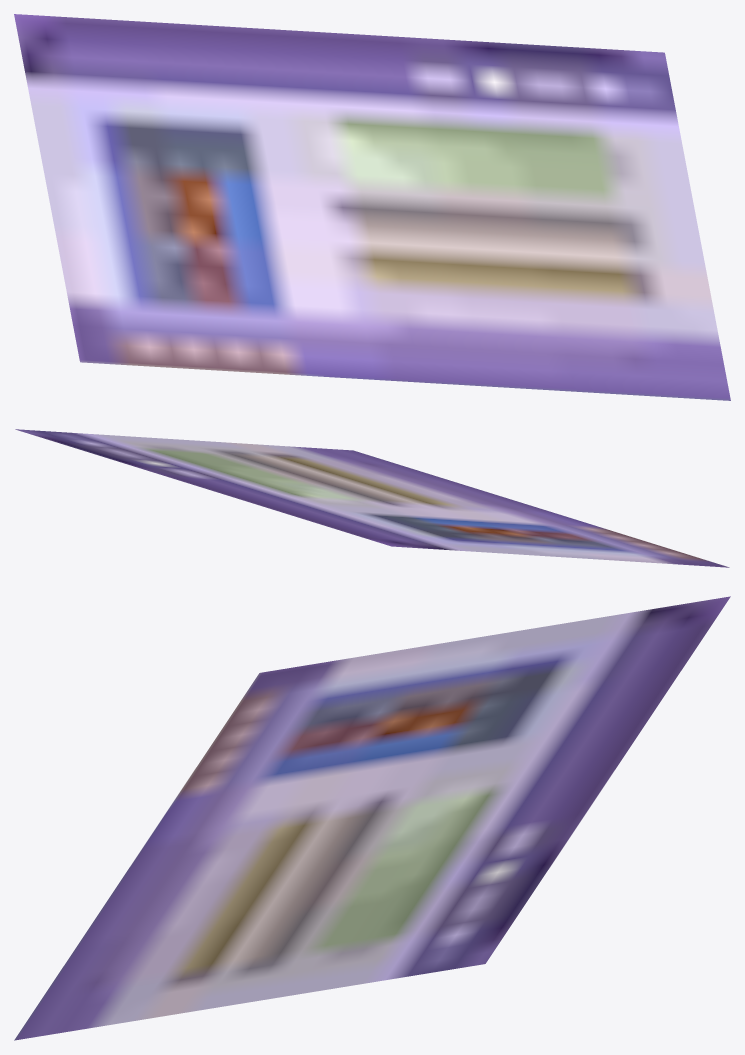
Rendered from fg_villagercard_out.dae.
The picture shows the model from 3 angles, top to bottom: view 1: azimuth 30°, elevation 25°; view 2: azimuth 150°, elevation 25°; view 3: azimuth 270°, elevation 25°; orthographic projection. The views are drawn at different scales.
Visible parts, largest first — view 1: fg_villagercard_out; view 2: fg_villagercard_out; view 3: fg_villagercard_out.
Part boxes in pixels (left/top/right/bottom): fg_villagercard_out: left=14, top=14, right=730, bottom=400; fg_villagercard_out: left=15, top=429, right=729, bottom=567; fg_villagercard_out: left=14, top=596, right=730, bottom=1040.
Size of the model in its own units: 15.93 by 5.12 by 13.46.
1 material, 1 textured.
